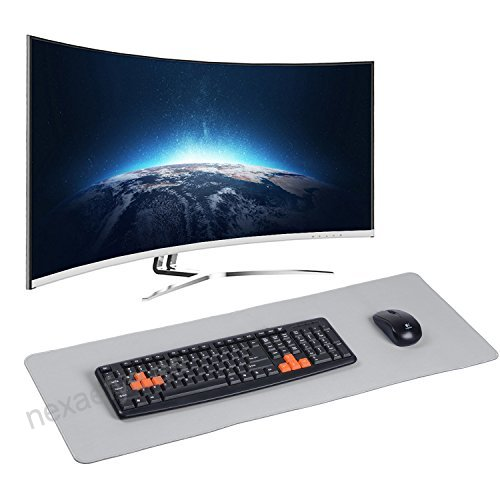Teclado: (93, 316, 360, 418)
